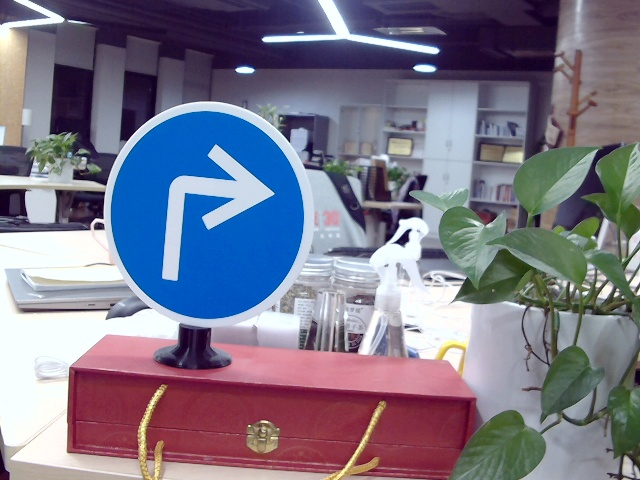turn_right: (154, 139, 275, 279)
